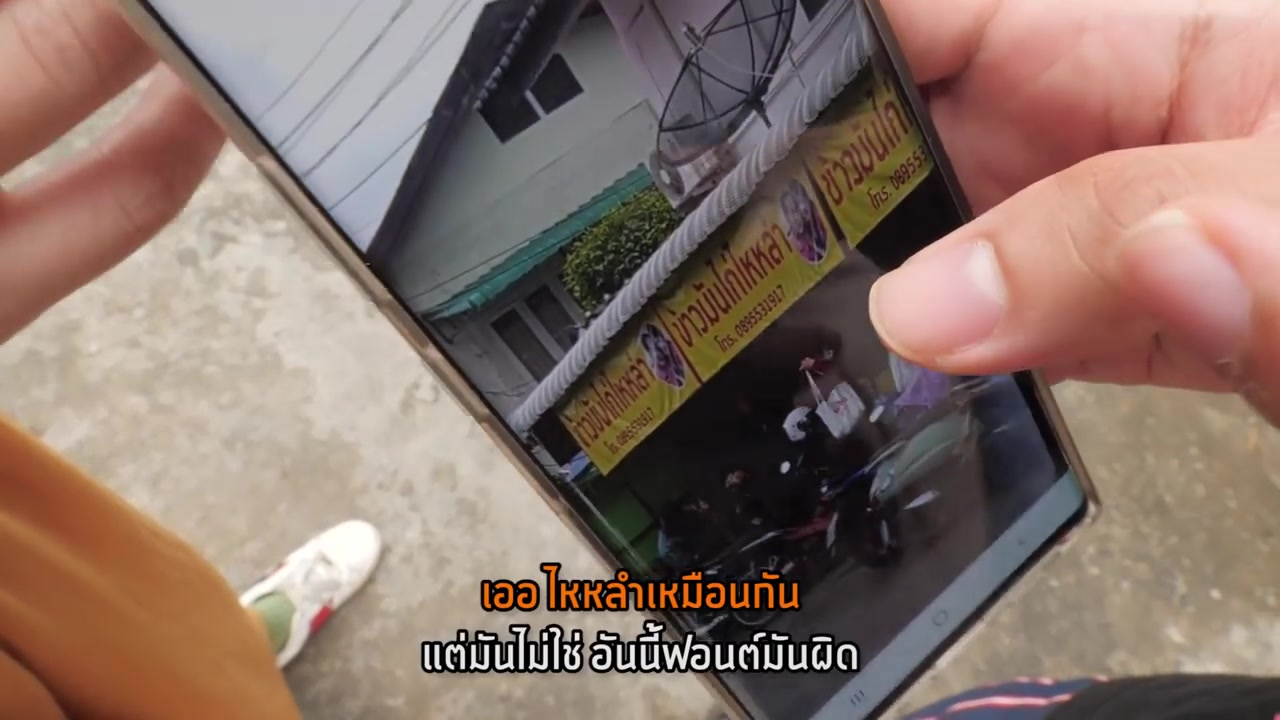text-label: (419, 617, 859, 677), (479, 557, 802, 612)
